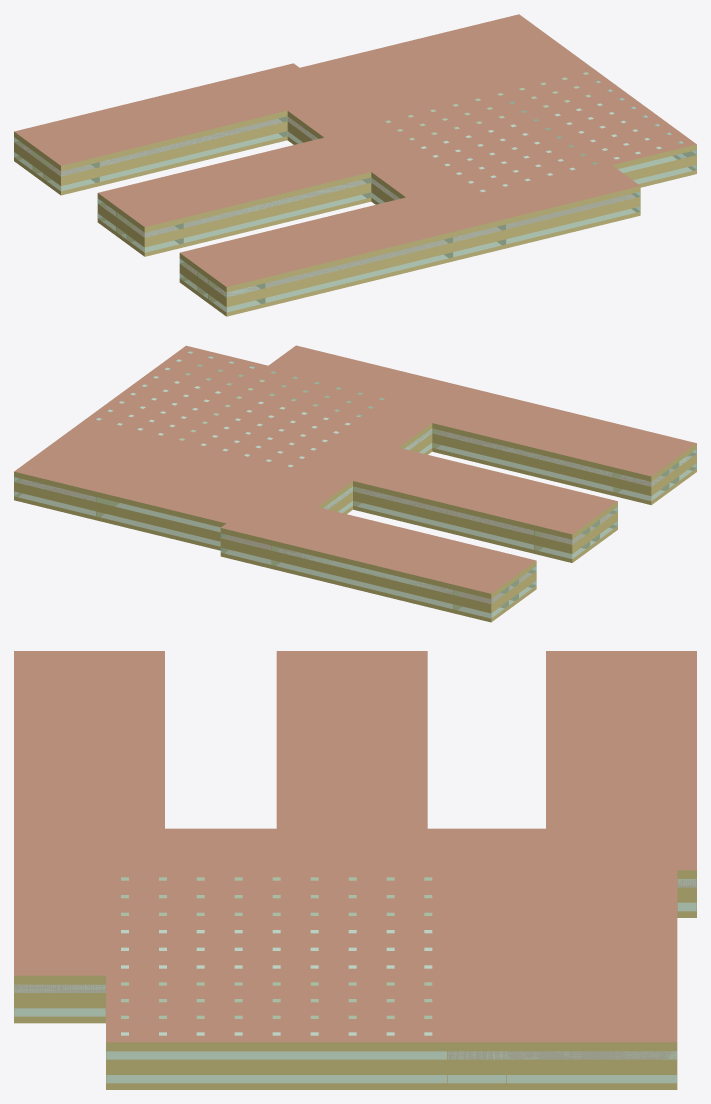
File: Sample_DOE-RefBldgSecondarySchoolNew2004_Chicago.gltf
3 renders of one model, top to bottom at view 1: azimuth 30°, elevation 25°; view 2: azimuth 150°, elevation 25°; view 3: azimuth 270°, elevation 25°, orthographic. The views are drawn at different scales.
Parts seen in each view (by area): view 1: Gym_ZN_1_FLR_2_Ceiling, Aux_Gym_ZN_1_FLR_2_Ceiling, Main_Corridor_ZN_1_FLR_2_Ceiling, Auditorium_ZN_1_FLR_2_Ceiling, LIBRARY_MEDIA_CENTER_Ceiling, Offices_ZN_1_FLR_2_Ceiling, Mult_Class_2_Pod_3_ZN_1_FLR_2_Ceiling, Mult_Class_2_Pod_2_ZN_1_FLR_2_Ceiling, Mult_Class_2_Pod_1_ZN_1_FLR_2_Ceiling, Mult_Class_1_Pod_2_ZN_1_FLR_2_Ceiling, Mult_Class_1_Pod_1_ZN_1_FLR_2_Ceiling, Mult_Class_1_Pod_3_ZN_1_FLR_2_Ceiling (+41 smaller); view 2: Gym_ZN_1_FLR_2_Ceiling, Aux_Gym_ZN_1_FLR_2_Ceiling, Main_Corridor_ZN_1_FLR_2_Ceiling, Auditorium_ZN_1_FLR_2_Ceiling, LIBRARY_MEDIA_CENTER_Ceiling, Offices_ZN_1_FLR_2_Ceiling, Mult_Class_2_Pod_3_ZN_1_FLR_2_Ceiling, Mult_Class_1_Pod_3_ZN_1_FLR_2_Ceiling, Mult_Class_2_Pod_2_ZN_1_FLR_2_Ceiling, Mult_Class_1_Pod_2_ZN_1_FLR_2_Ceiling, Mult_Class_2_Pod_1_ZN_1_FLR_2_Ceiling, Mult_Class_1_Pod_1_ZN_1_FLR_2_Ceiling (+41 smaller); view 3: Gym_ZN_1_FLR_2_Ceiling, Aux_Gym_ZN_1_FLR_2_Ceiling, Main_Corridor_ZN_1_FLR_2_Ceiling, Auditorium_ZN_1_FLR_2_Ceiling, LIBRARY_MEDIA_CENTER_Ceiling, Offices_ZN_1_FLR_2_Ceiling, Mult_Class_2_Pod_2_ZN_1_FLR_2_Ceiling, Mult_Class_1_Pod_2_ZN_1_FLR_2_Ceiling, Mult_Class_2_Pod_3_ZN_1_FLR_2_Ceiling, Mult_Class_2_Pod_1_ZN_1_FLR_2_Ceiling, Mult_Class_1_Pod_3_ZN_1_FLR_2_Ceiling, Mult_Class_1_Pod_1_ZN_1_FLR_2_Ceiling (+31 smaller).
Part boxes in pixels (bbox=[...]): Gym_ZN_1_FLR_2_Ceiling: bbox=[371, 87, 611, 197]; Aux_Gym_ZN_1_FLR_2_Ceiling: bbox=[506, 66, 696, 164]; Main_Corridor_ZN_1_FLR_2_Ceiling: bbox=[269, 84, 476, 210]; Auditorium_ZN_1_FLR_2_Ceiling: bbox=[300, 35, 486, 106]; LIBRARY_MEDIA_CENTER_Ceiling: bbox=[435, 14, 590, 86]; Offices_ZN_1_FLR_2_Ceiling: bbox=[478, 165, 639, 218]; Mult_Class_2_Pod_3_ZN_1_FLR_2_Ceiling: bbox=[53, 76, 258, 135]; Mult_Class_2_Pod_2_ZN_1_FLR_2_Ceiling: bbox=[137, 137, 341, 196]; Mult_Class_2_Pod_1_ZN_1_FLR_2_Ceiling: bbox=[219, 197, 423, 256]; Mult_Class_1_Pod_2_ZN_1_FLR_2_Ceiling: bbox=[166, 158, 370, 217]; Mult_Class_1_Pod_1_ZN_1_FLR_2_Ceiling: bbox=[247, 218, 452, 277]; Mult_Class_1_Pod_3_ZN_1_FLR_2_Ceiling: bbox=[82, 97, 286, 156]; Gym_ZN_1_FLR_2_Ceiling: bbox=[166, 365, 398, 472]; Aux_Gym_ZN_1_FLR_2_Ceiling: bbox=[83, 345, 267, 440]; Main_Corridor_ZN_1_FLR_2_Ceiling: bbox=[248, 397, 449, 519]; Auditorium_ZN_1_FLR_2_Ceiling: bbox=[96, 454, 277, 523]; LIBRARY_MEDIA_CENTER_Ceiling: bbox=[14, 421, 164, 491]; Offices_ZN_1_FLR_2_Ceiling: bbox=[269, 345, 425, 397]; Mult_Class_2_Pod_3_ZN_1_FLR_2_Ceiling: bbox=[272, 527, 470, 584]; Mult_Class_1_Pod_3_ZN_1_FLR_2_Ceiling: bbox=[300, 507, 498, 564]; Mult_Class_2_Pod_2_ZN_1_FLR_2_Ceiling: bbox=[353, 468, 551, 525]; Mult_Class_1_Pod_2_ZN_1_FLR_2_Ceiling: bbox=[381, 447, 579, 504]; Mult_Class_2_Pod_1_ZN_1_FLR_2_Ceiling: bbox=[432, 410, 630, 467]; Mult_Class_1_Pod_1_ZN_1_FLR_2_Ceiling: bbox=[460, 390, 658, 446]; Gym_ZN_1_FLR_2_Ceiling: bbox=[106, 870, 447, 975]; Aux_Gym_ZN_1_FLR_2_Ceiling: bbox=[106, 975, 447, 1042]; Main_Corridor_ZN_1_FLR_2_Ceiling: bbox=[106, 828, 604, 870]; Auditorium_ZN_1_FLR_2_Ceiling: bbox=[506, 870, 677, 975]; LIBRARY_MEDIA_CENTER_Ceiling: bbox=[447, 975, 677, 1042]; Offices_ZN_1_FLR_2_Ceiling: bbox=[14, 870, 105, 975]; Mult_Class_2_Pod_2_ZN_1_FLR_2_Ceiling: bbox=[368, 681, 427, 828]; Mult_Class_1_Pod_2_ZN_1_FLR_2_Ceiling: bbox=[276, 681, 335, 828]; Mult_Class_2_Pod_3_ZN_1_FLR_2_Ceiling: bbox=[638, 681, 696, 828]; Mult_Class_2_Pod_1_ZN_1_FLR_2_Ceiling: bbox=[106, 681, 164, 828]; Mult_Class_1_Pod_3_ZN_1_FLR_2_Ceiling: bbox=[546, 681, 604, 828]; Mult_Class_1_Pod_1_ZN_1_FLR_2_Ceiling: bbox=[14, 681, 72, 828].
Size of the model in its own units: 141 by 8 by 104.
